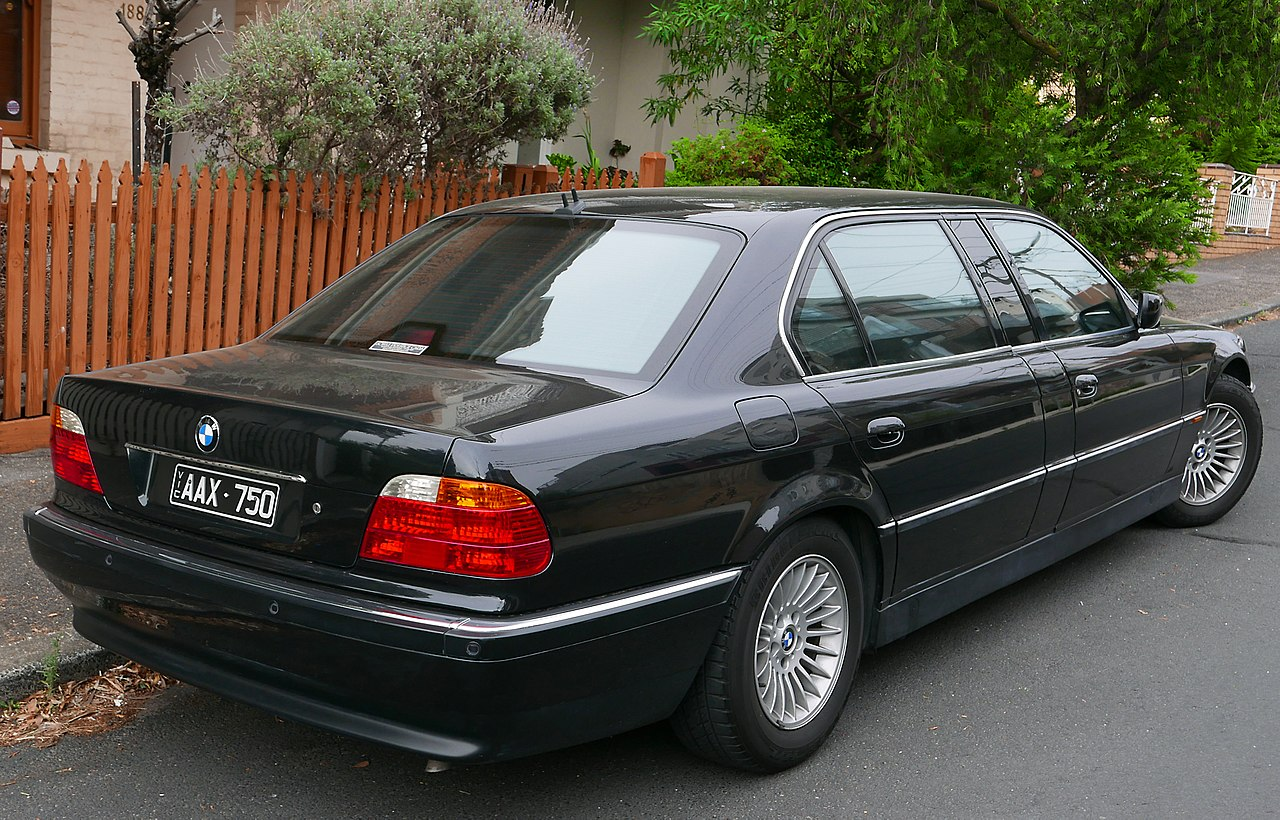plate: (168, 462, 281, 529)
